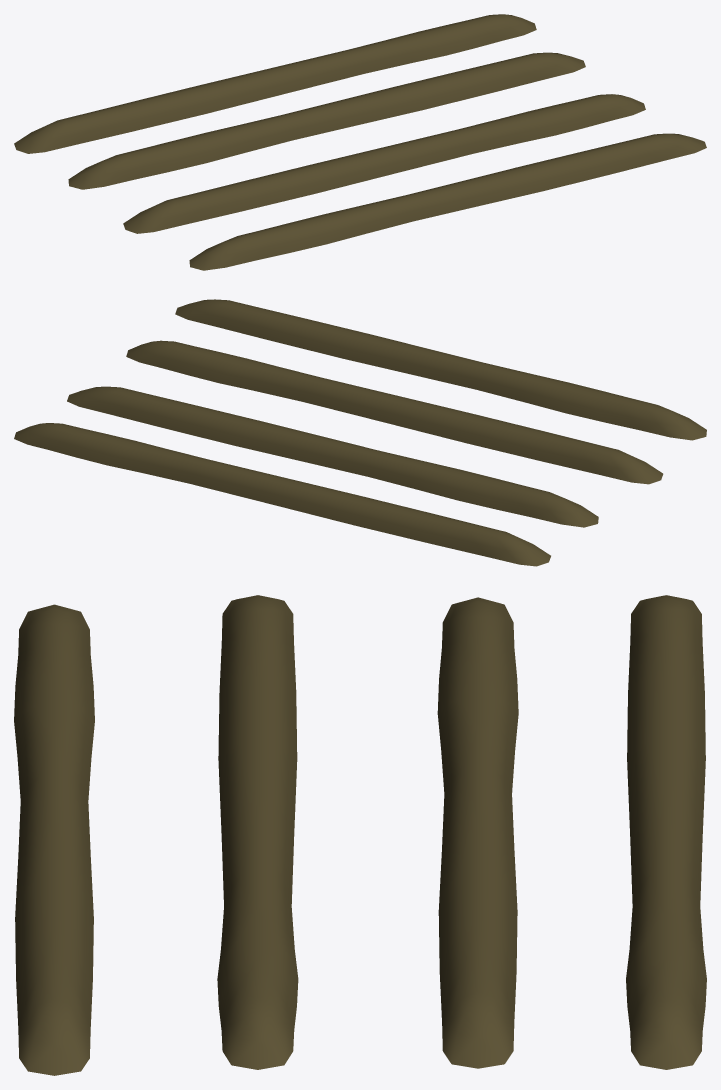
The model's file is quaternius-ultimate-fantasy-rts-farm-firstage-level-2.glb.
The picture shows the model from 3 angles, top to bottom: view 1: azimuth 30°, elevation 25°; view 2: azimuth 150°, elevation 25°; view 3: azimuth 270°, elevation 25°; orthographic projection. The views are drawn at different scales.
Parts seen in each view (by area): view 1: Farm_FirstAge_Level2; view 2: Farm_FirstAge_Level2; view 3: Farm_FirstAge_Level2.
Boxes of the visible parts, x1=… form: Farm_FirstAge_Level2: x1=14, y1=14, x2=706, y2=270; Farm_FirstAge_Level2: x1=14, y1=299, x2=706, y2=566; Farm_FirstAge_Level2: x1=14, y1=595, x2=706, y2=1075.
Size of the model in its own units: 1.79 by 0.0564 by 1.09.
